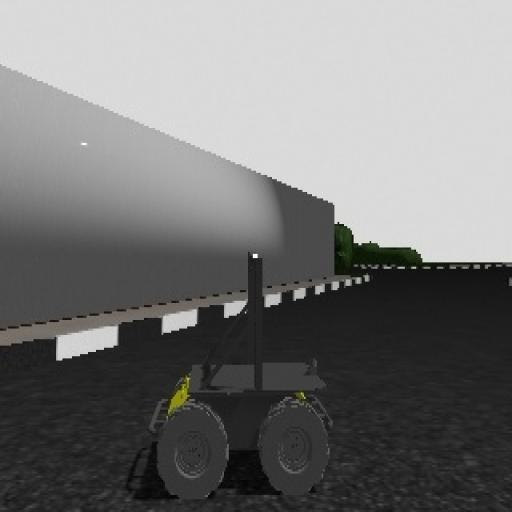huskya200: (122, 246, 349, 506)
